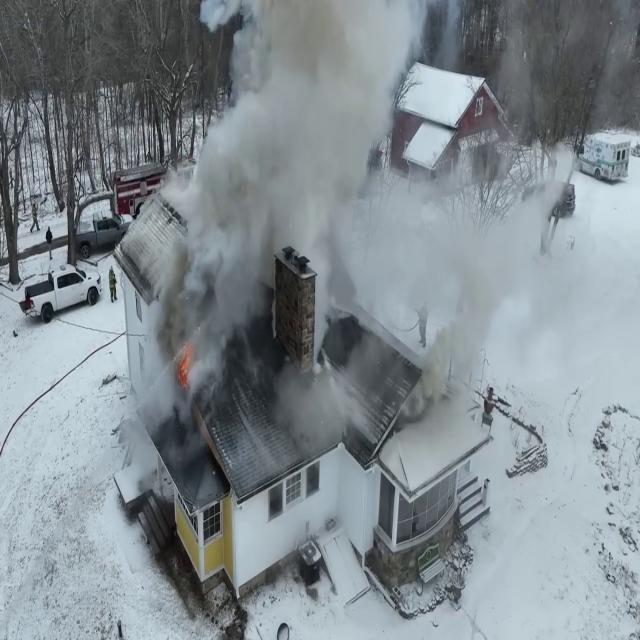Smoke: (146, 0, 428, 371), (373, 180, 593, 422)
